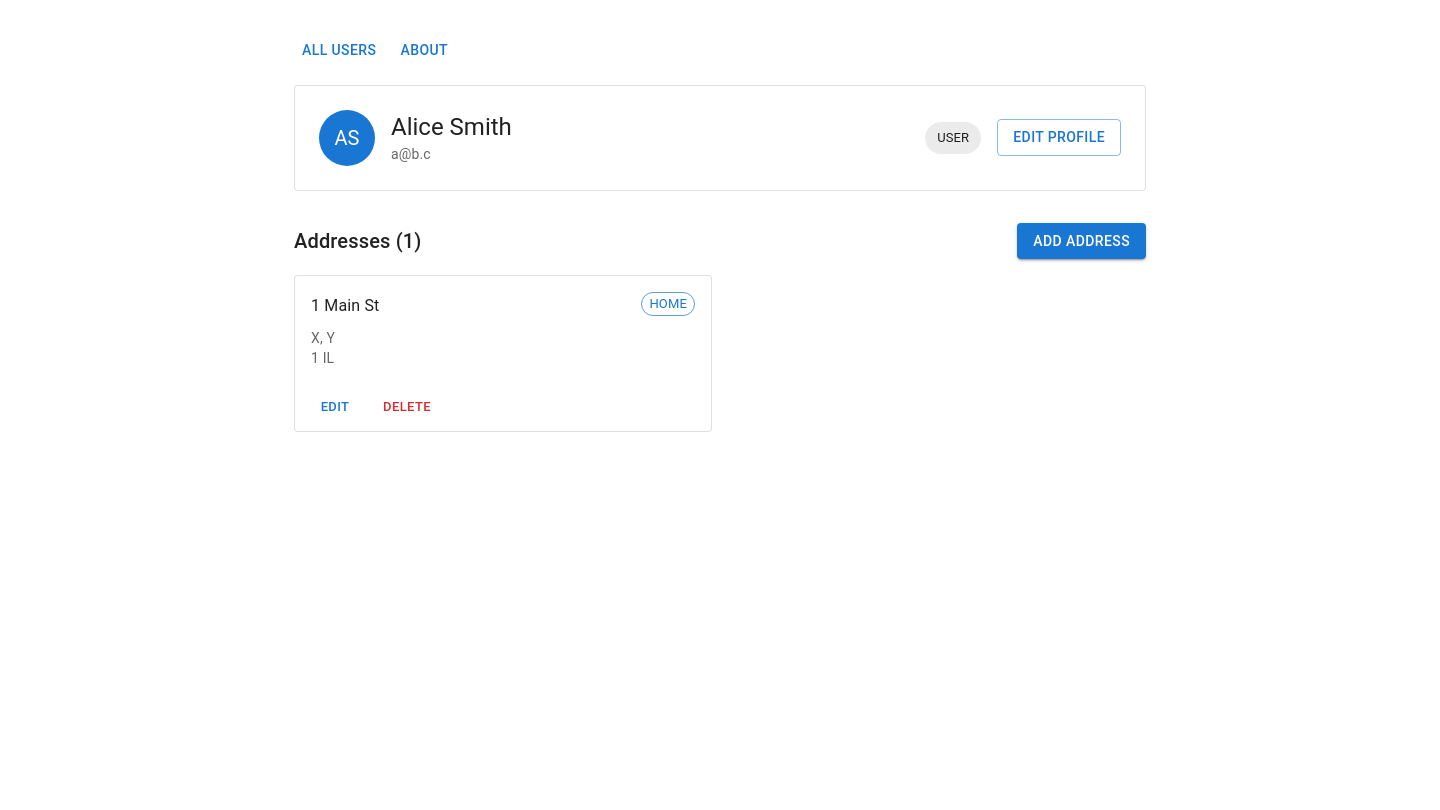
Scenario: UserDetailPage delete failure › shows a page error when address deletion fails
expect the heading "1 Main St" is shown: met, box [311,292,379,320]
Click the button "Delete": (407,407) [375,392,439,423]
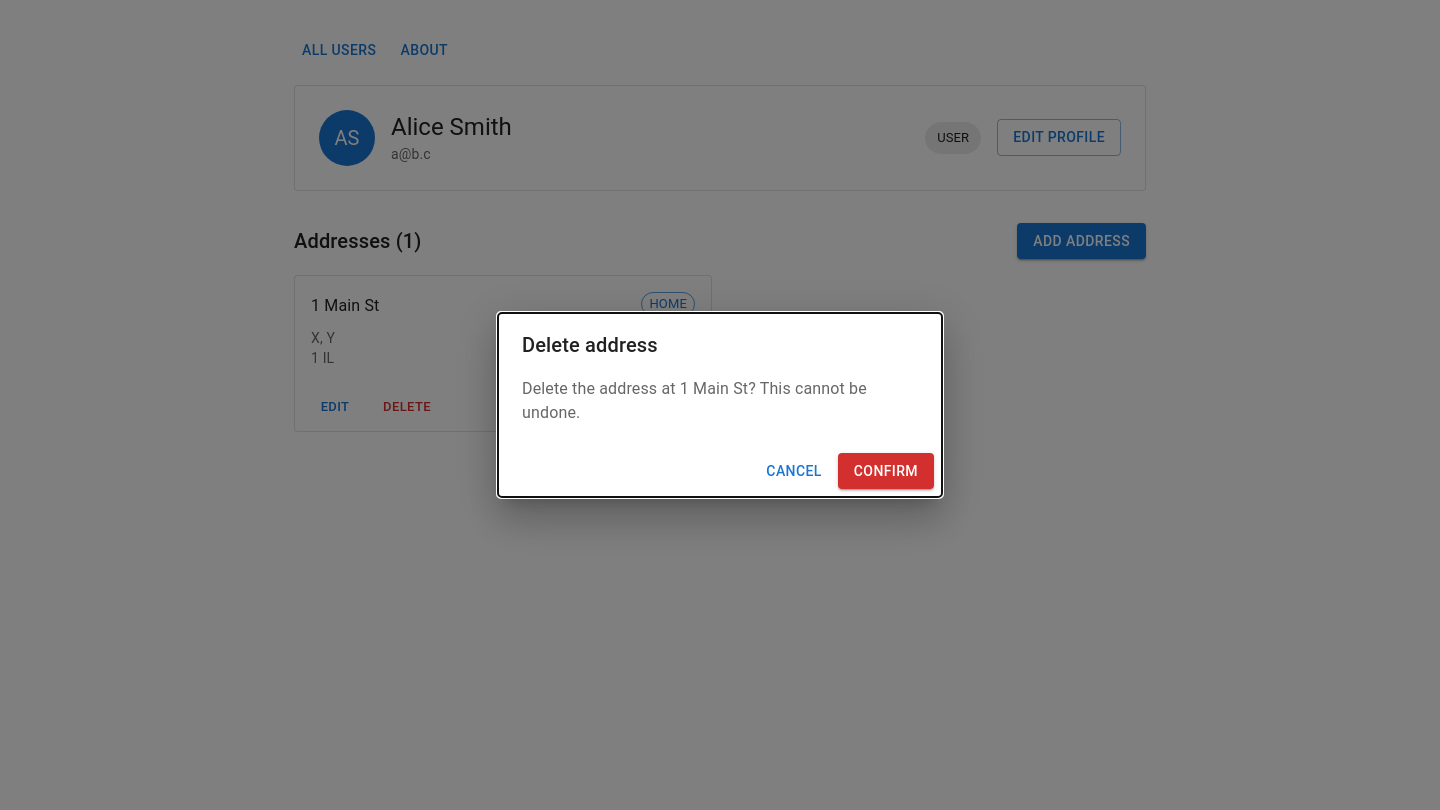
Click the button "Confirm": (886,471) [838,453,934,489]
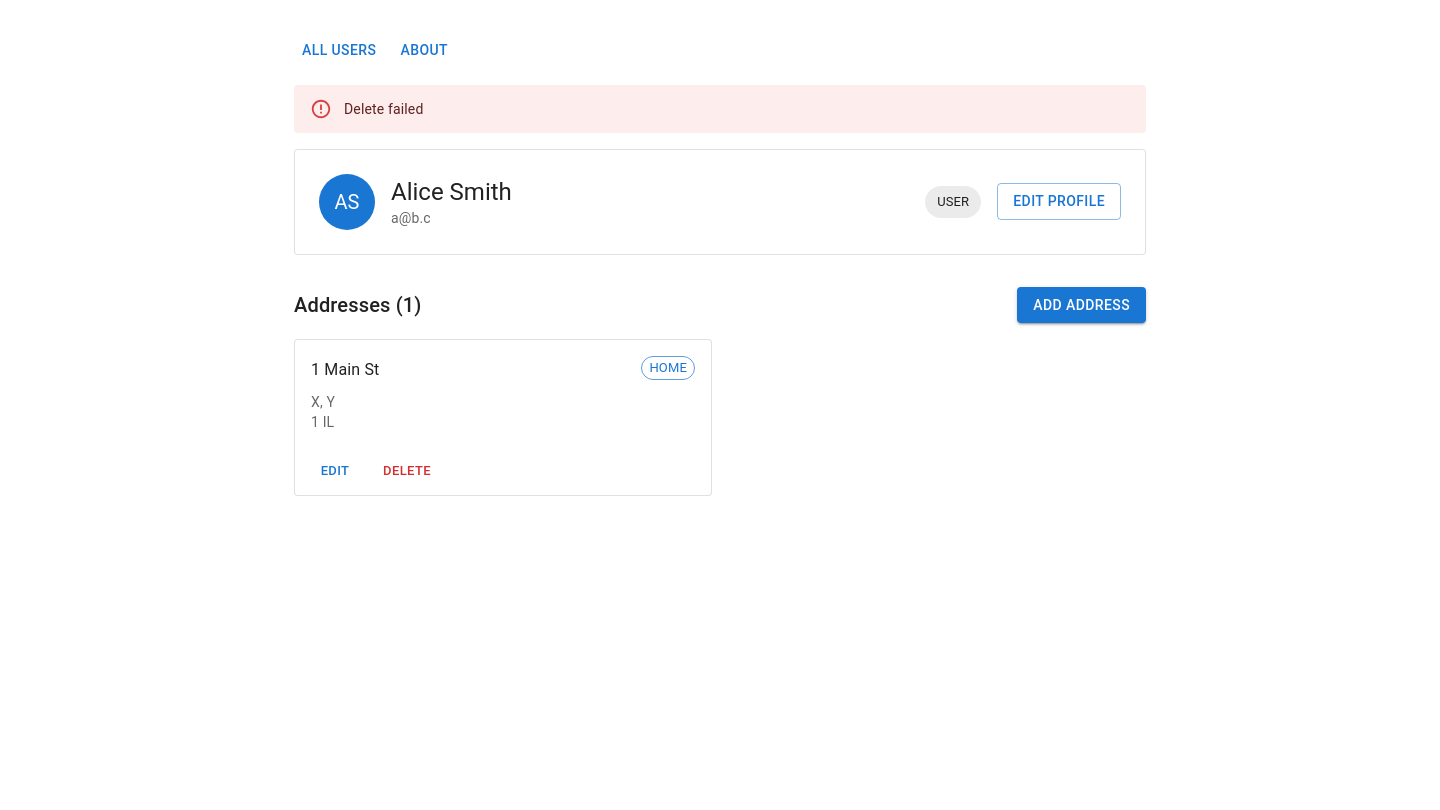
expect the message with test id "page-error" reads "Delete failed": met, box [344,100,424,116]
